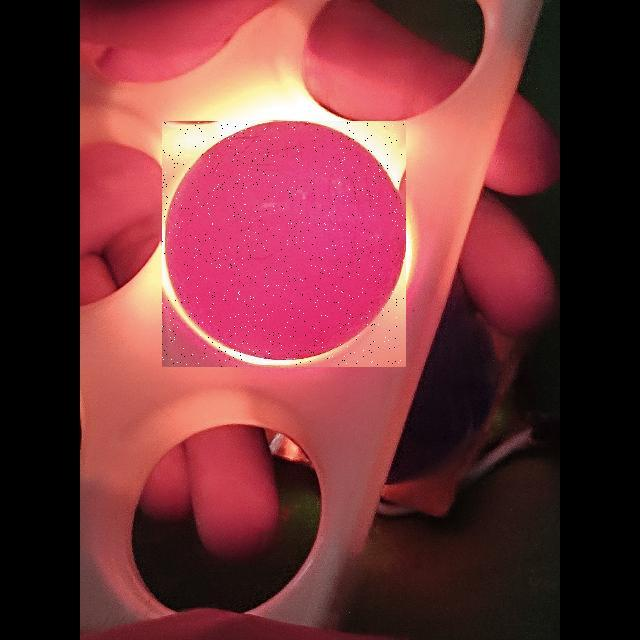Infertile: (162, 121, 406, 367)
